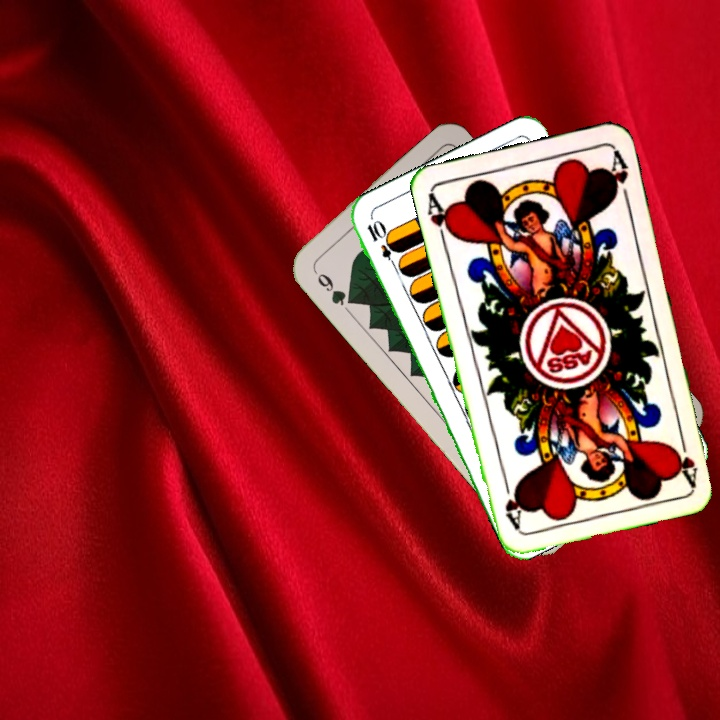E10: (362, 216, 402, 272)
G9: (309, 264, 358, 309)
HA: (423, 190, 458, 248), (671, 428, 701, 488)
